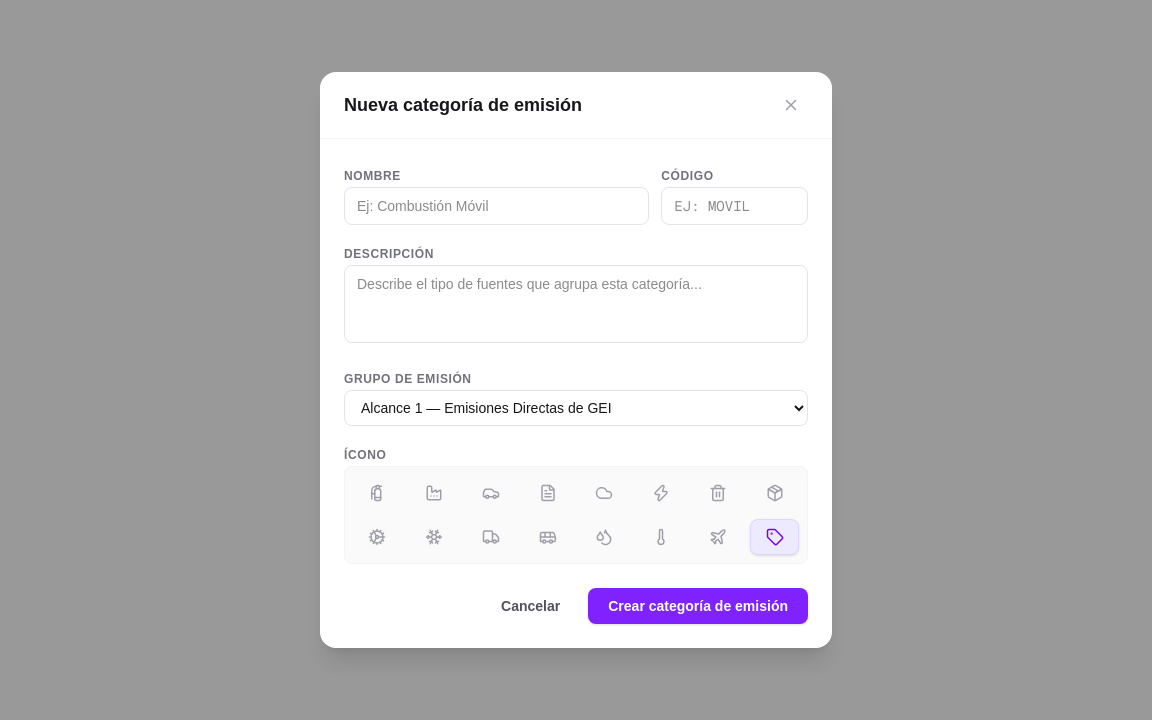
EmissionSourceCategoryFormModal › C-03 — Submit vacío muestra errores de nombre Y código requeridos › muestra error de nombre requerido
Click the button "Crear categoría de emisión" at (698, 606), box left=588, top=588, right=808, bottom=624
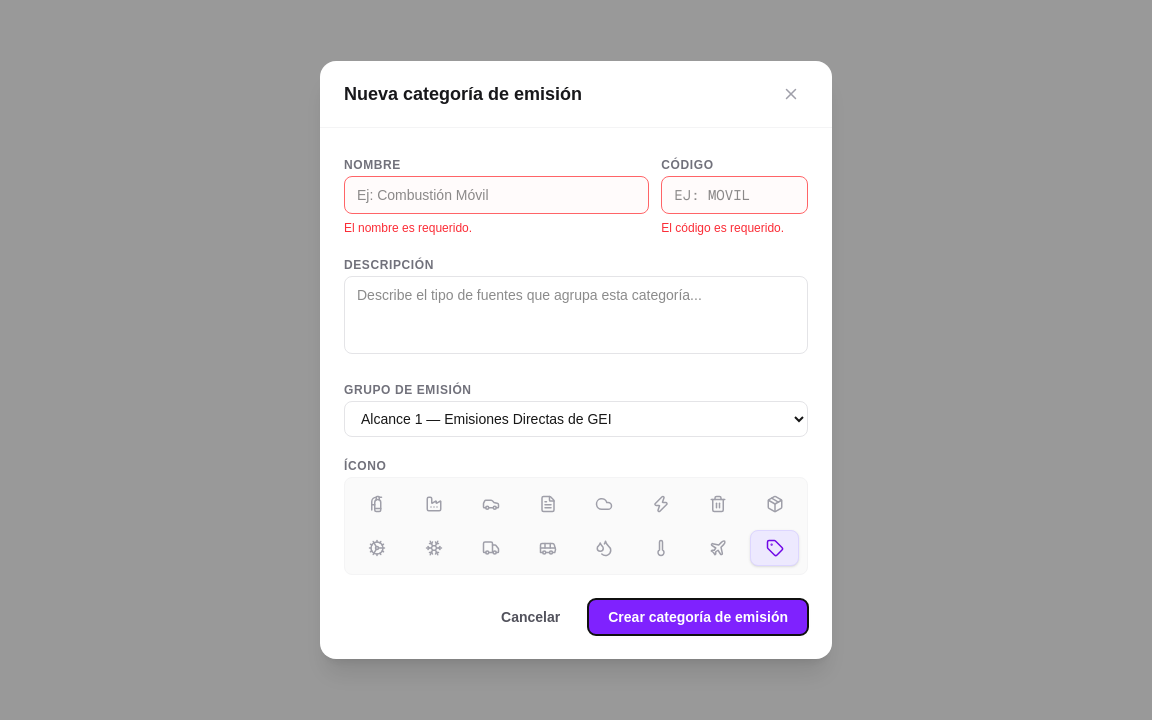
Check: the text "El nombre es requerido." is shown, box left=344, top=221, right=472, bottom=235
